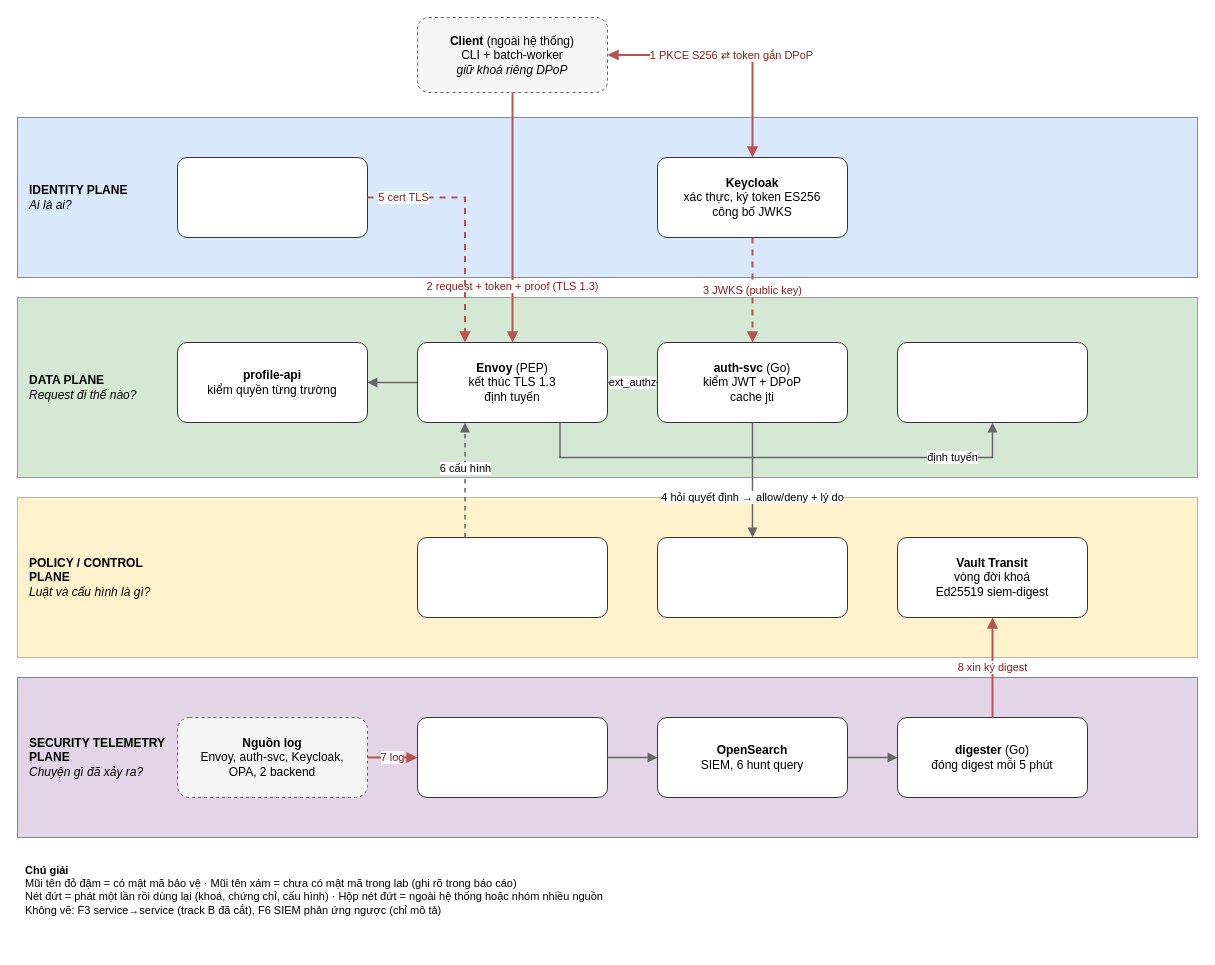
Image size: 1215x965. Some labels were removed from this diagram. Here are the shapes that lost their labels. From the top down, the centre of each, then its label:
At point (272, 197): "CA nội bộ cấp chứng chỉ TLS (trust anchor)".
At point (992, 382): "orders-api kiểm quyền từng đơn".
At point (512, 577): "Cấu hình compose, envoy.yaml, realm, allow-list alg".
At point (752, 577): "OPA (PDP) policy Rego phiên bản = git commit".
At point (512, 757): "Vector HMAC định danh, bỏ token hash chain SHA-256".
